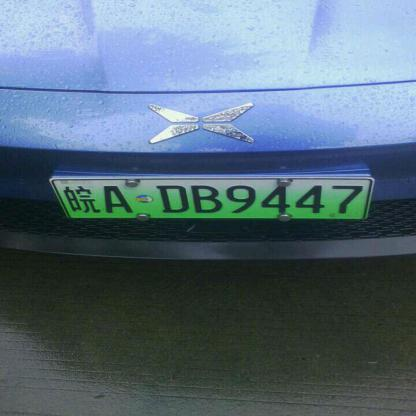lp: (47, 177, 71, 218)
